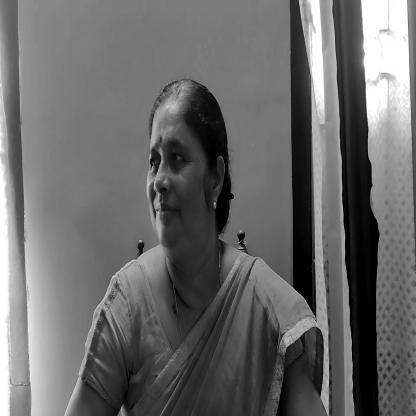Distracted: (147, 76, 219, 250)
